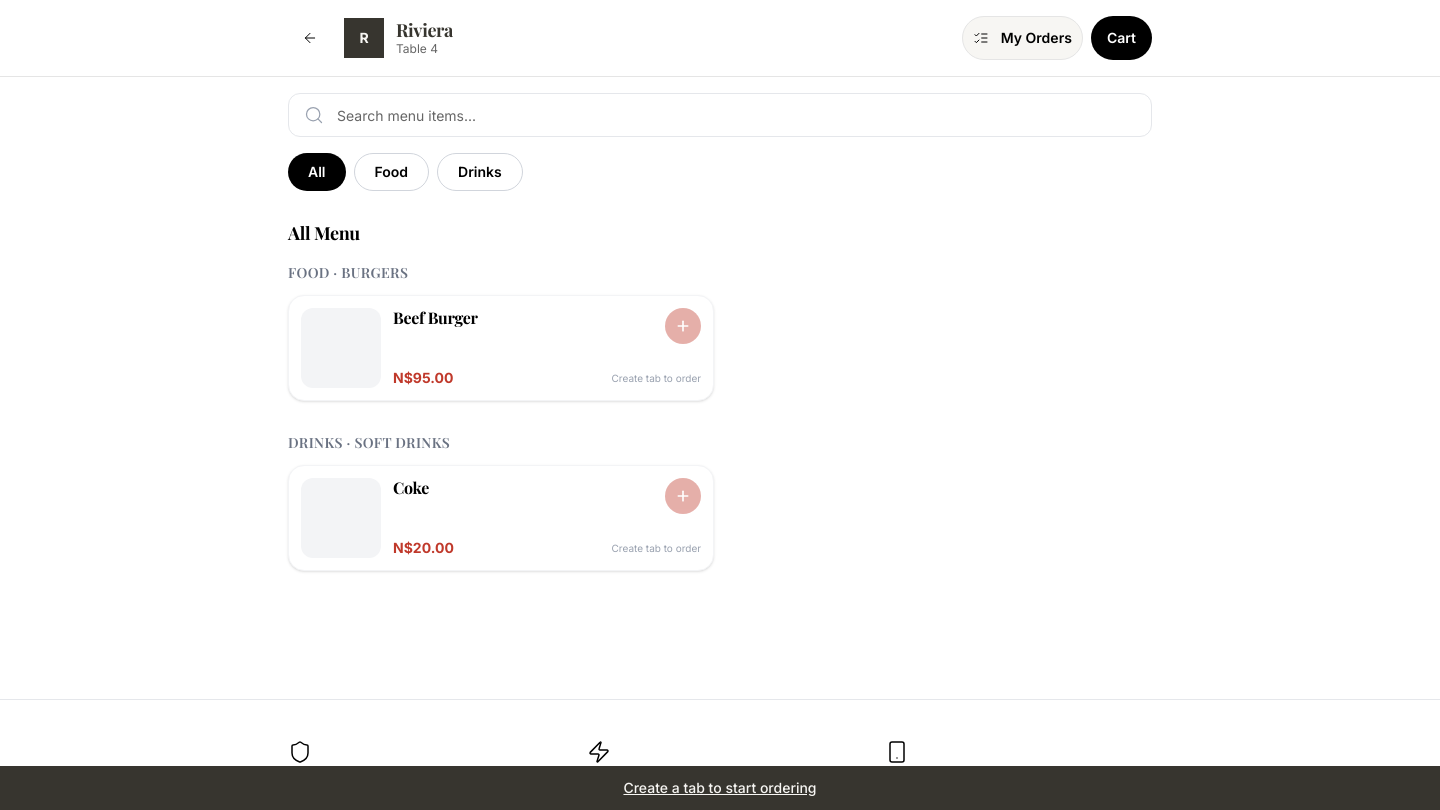
Test: #225 — a response for a category the customer has left must not be applied › does not leave the previous category on screen while the new one is still loading
Click the button "Food" at (391, 172), box top-left (354, 153), bottom-right (429, 191)
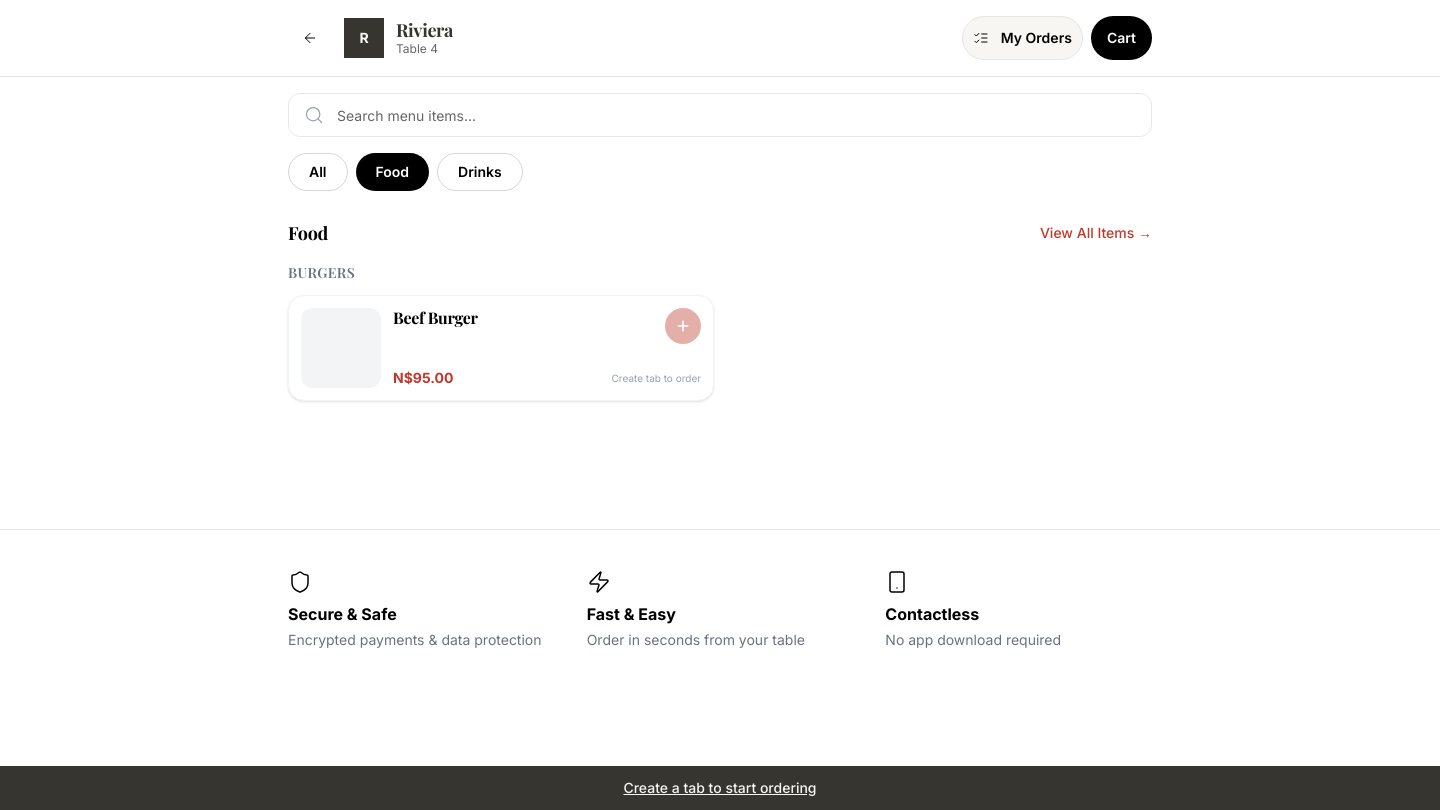
expect the text "Beef Burger" is shown: met, box top-left (393, 307), bottom-right (478, 328)
Click the button "Drinks" at (480, 172), box top-left (437, 153), bottom-right (523, 191)
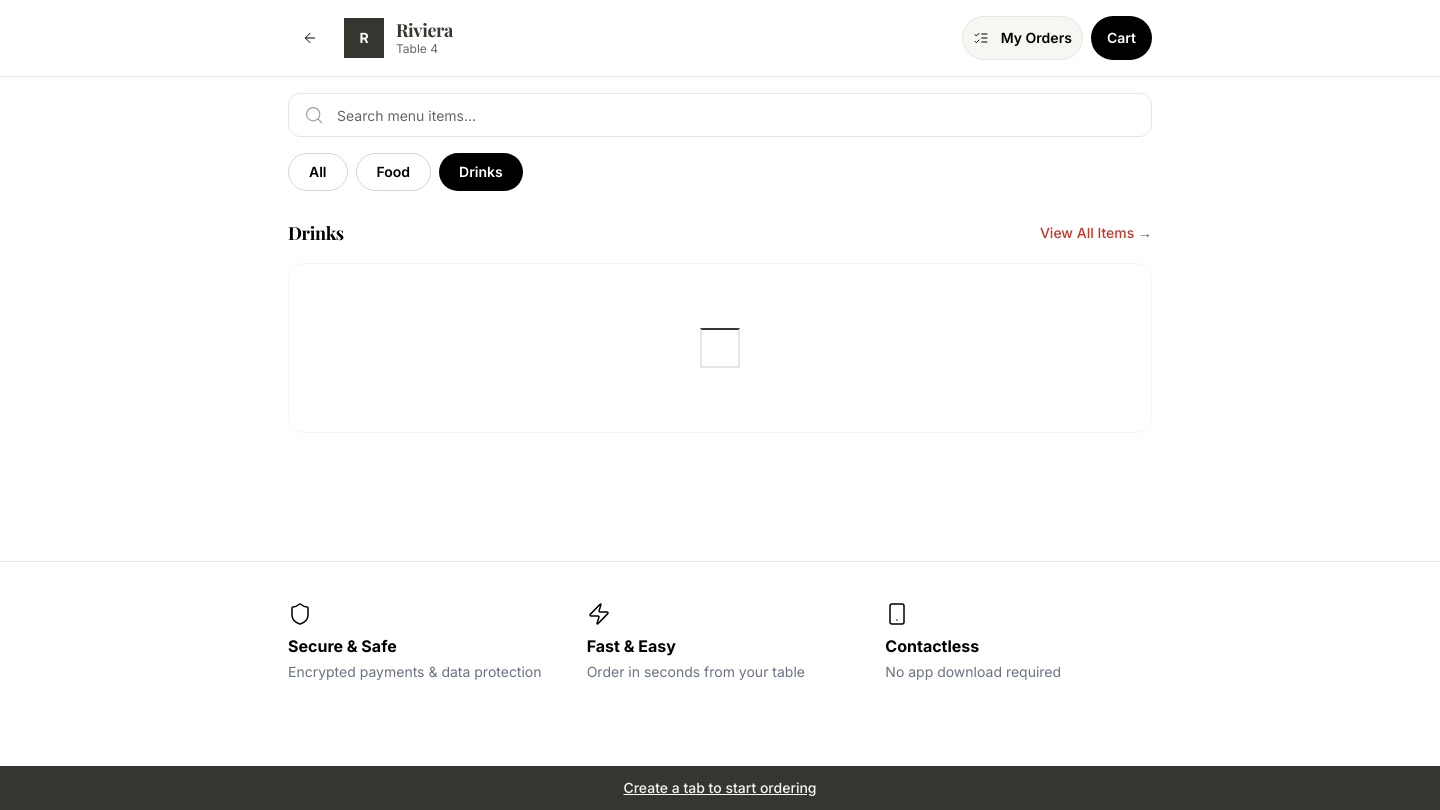
expect the element with test id "menu-body-loading" is shown: met, box top-left (288, 263), bottom-right (1152, 433)
expect the text "Beef Burger" is gone: met
